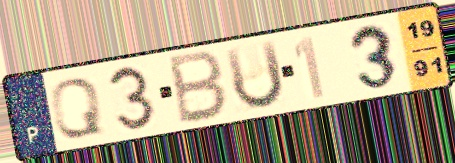1: (292, 34, 326, 101)
3: (348, 21, 407, 95), (107, 62, 159, 137)
B: (168, 48, 231, 127)
Q: (47, 75, 107, 140)
U: (221, 37, 287, 113)
